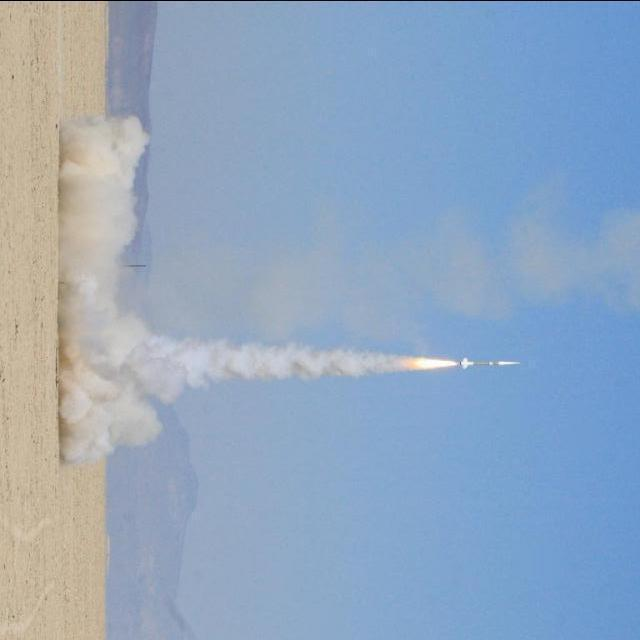missile: (453, 352, 523, 386)
